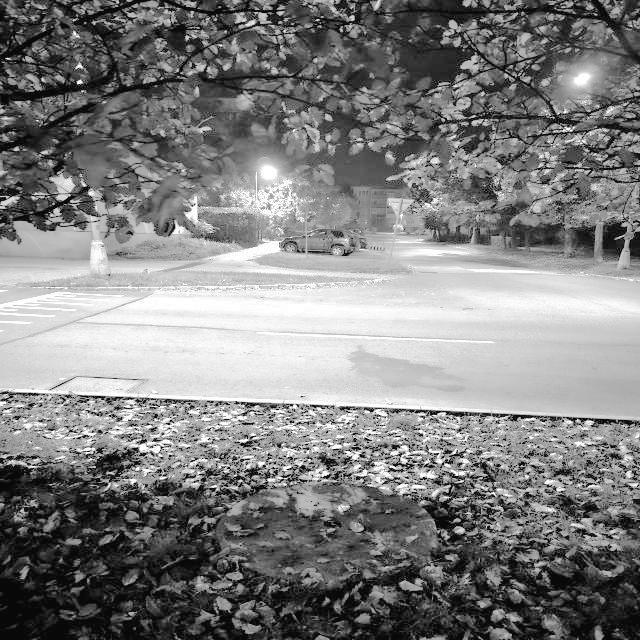Light: (251, 166, 291, 249)
